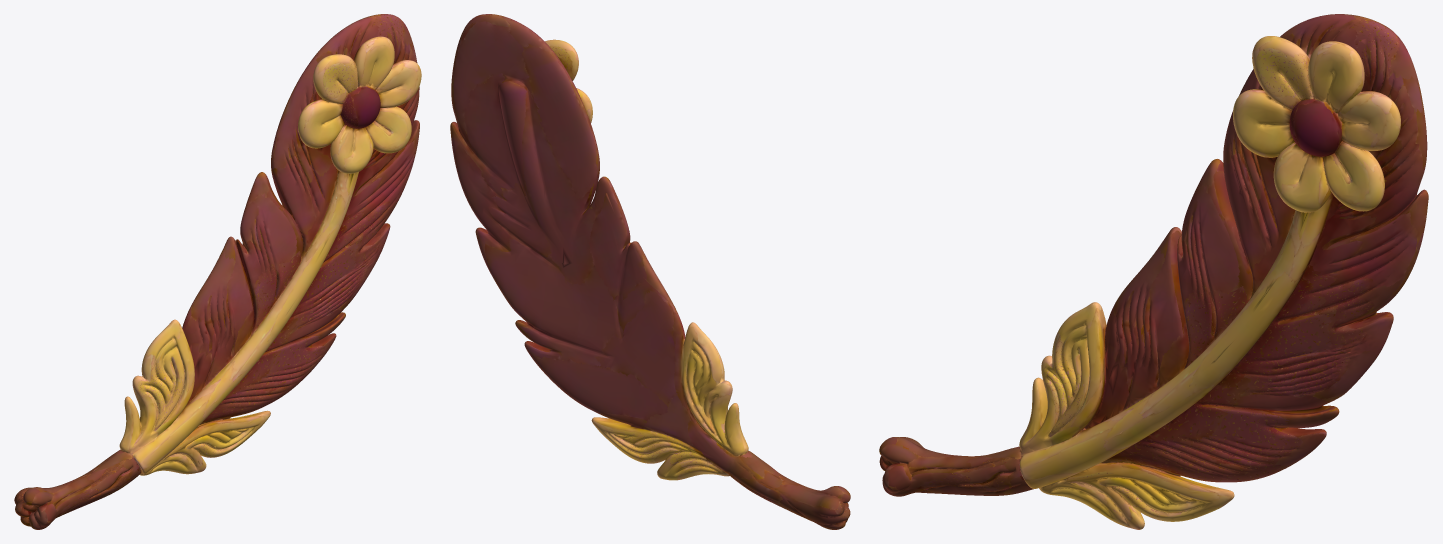
Rendered from flower_tail.glb.
3 views of the same model, side by side, from view 1: azimuth 30°, elevation 25°; view 2: azimuth 150°, elevation 25°; view 3: azimuth 330°, elevation 25° (orthographic). The views are drawn at different scales.
Visible parts, largest first — view 1: convert; view 2: convert; view 3: convert.
Part boxes in pixels (x1,y1,x2,y2): convert: (14, 14, 421, 529); convert: (450, 14, 850, 529); convert: (879, 14, 1428, 529).
Bounding box in the file's own units: 0.8594 × 0.8788 × 0.1072.
1 material, 1 textured.
